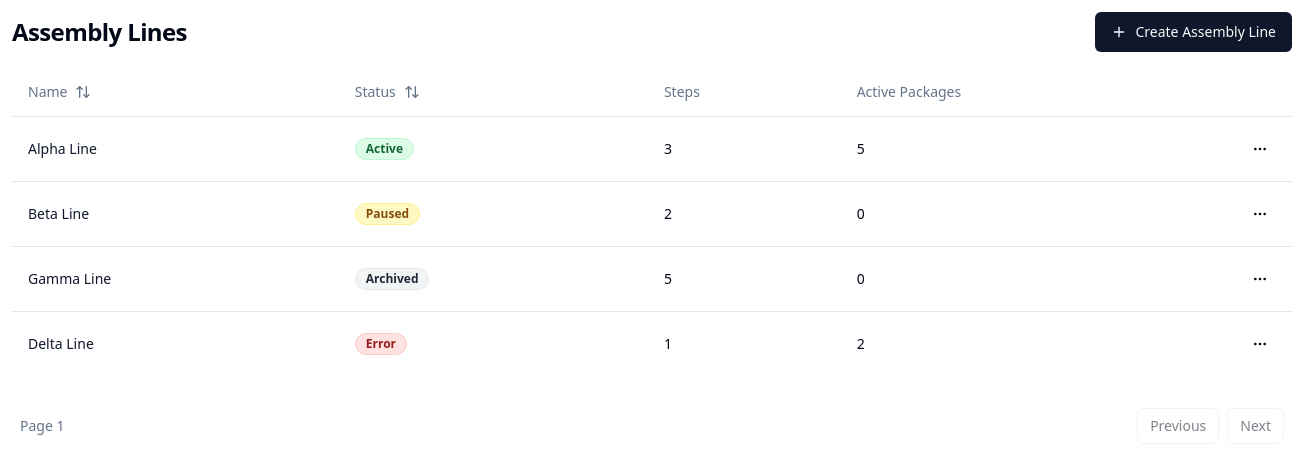
Test: AssemblyLineListPage › Actions dropdown › opens a dropdown with View, Pause, Archive for active lines
The image size is (1304, 461).
Expected: the link "Alpha Line" is shown, [28,138,97,158]
Click the button named "Open actions for" in the row of "Alpha Line": (1260, 148) [1244,132,1276,164]
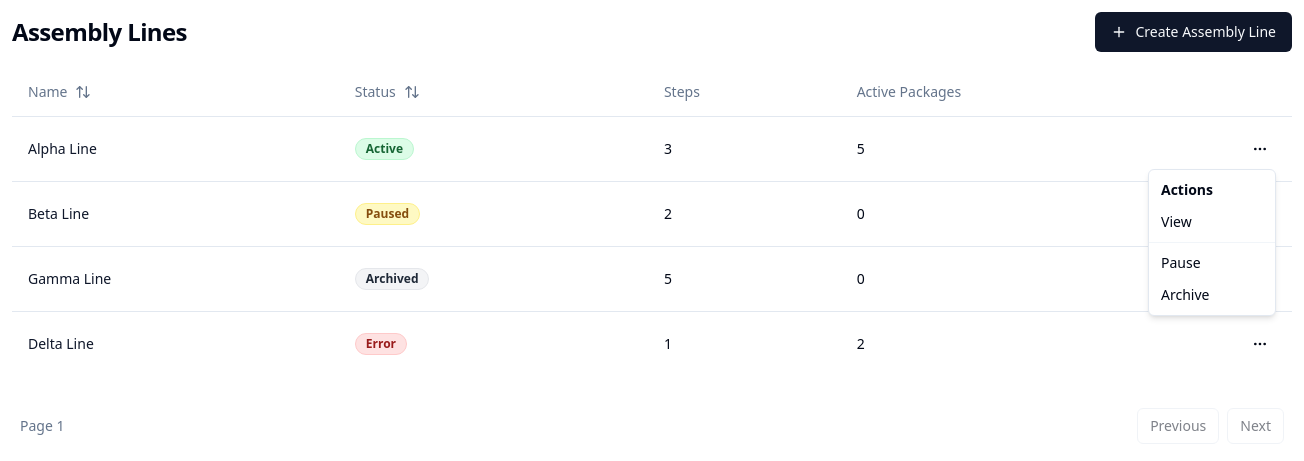
Now the menu item "View" is shown, box [1161,212,1192,231]
Now the menu item "Pause" is shown, box [1161,253,1201,272]
Now the menu item "Archive" is shown, box [1161,285,1210,304]
